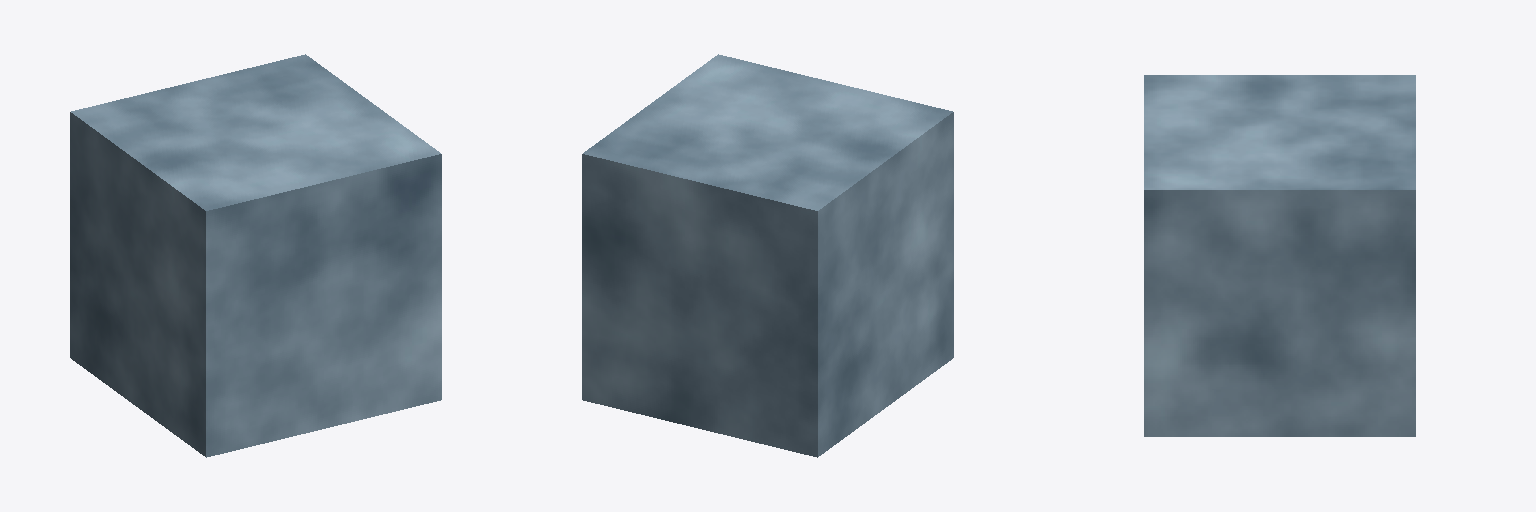
3 views of the same model, side by side, from view 1: azimuth 30°, elevation 25°; view 2: azimuth 150°, elevation 25°; view 3: azimuth 270°, elevation 25° (orthographic).
Parts seen in each view (by area): view 1: Cube; view 2: Cube; view 3: Cube.
Part boxes in pixels (x1,y1,x2,y2): Cube: (70,54,441,457); Cube: (582,54,953,457); Cube: (1144,75,1415,436).
Size of the model in its own units: 1 by 1 by 1.
1 materials, 1 textured.